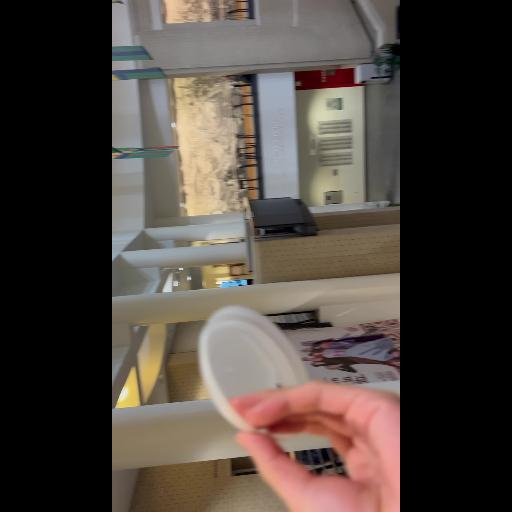lp_cup_lids: (196, 304, 326, 438)
